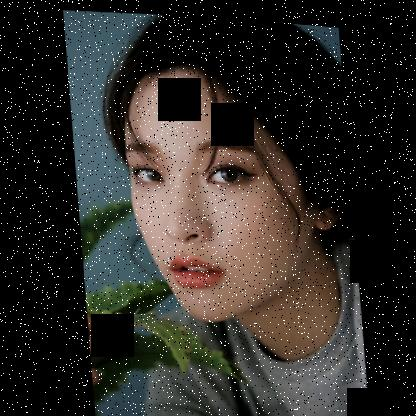Female: (118, 58, 350, 330)
